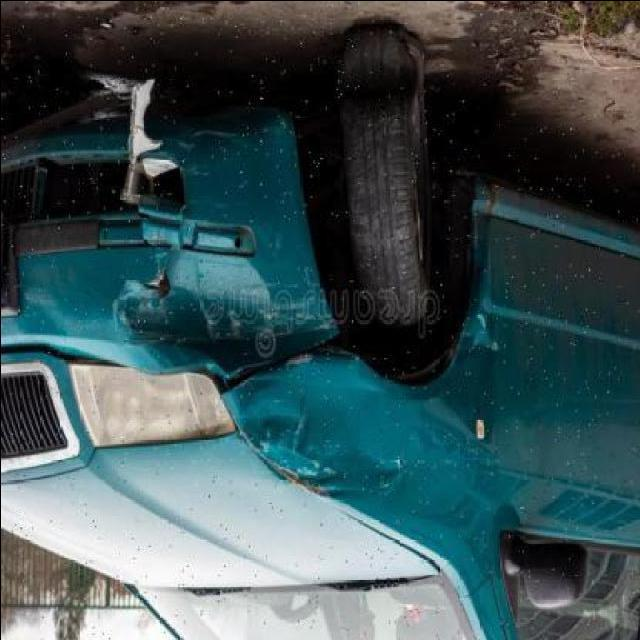fender-dent: (219, 338, 506, 534)
front-bumper-dent: (1, 87, 331, 383)
